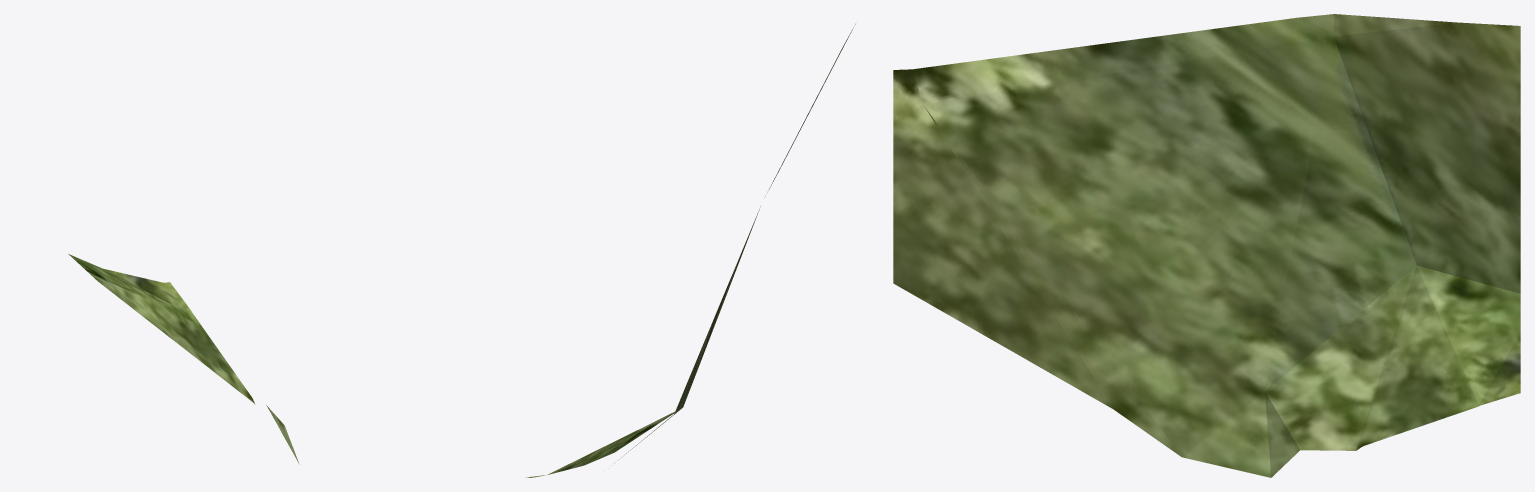
3 renders of one model, left to right at view 1: azimuth 30°, elevation 25°; view 2: azimuth 150°, elevation 25°; view 3: azimuth 270°, elevation 25°, orthographic. The views are drawn at different scales.
Bounding box in the file's own units: 0.945 × 1.97 × 2.95.
2 materials, 2 textured.
